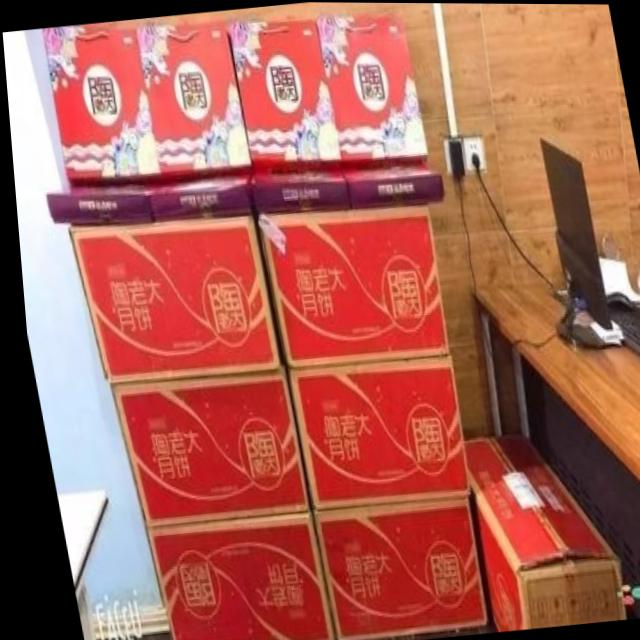box: (63, 217, 276, 385), (102, 367, 302, 526), (457, 433, 615, 625), (254, 208, 441, 361), (281, 357, 461, 509), (306, 496, 477, 639), (137, 514, 323, 640), (133, 20, 249, 180), (42, 30, 157, 185), (225, 20, 338, 165), (315, 16, 425, 162), (143, 167, 249, 222), (339, 155, 441, 204), (250, 161, 350, 210), (43, 177, 149, 221)
